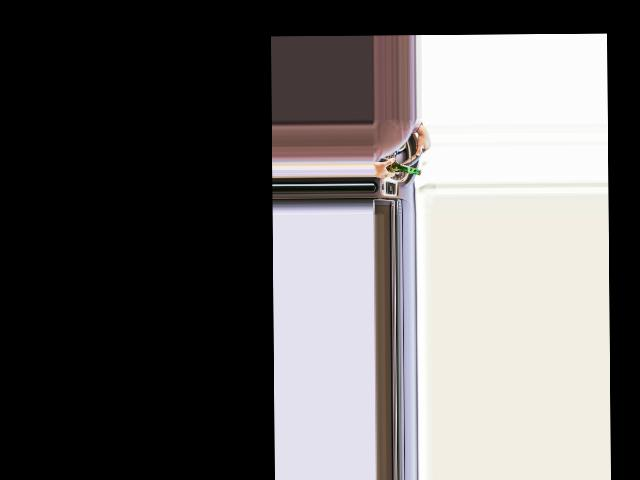beer: (377, 157, 421, 176)
